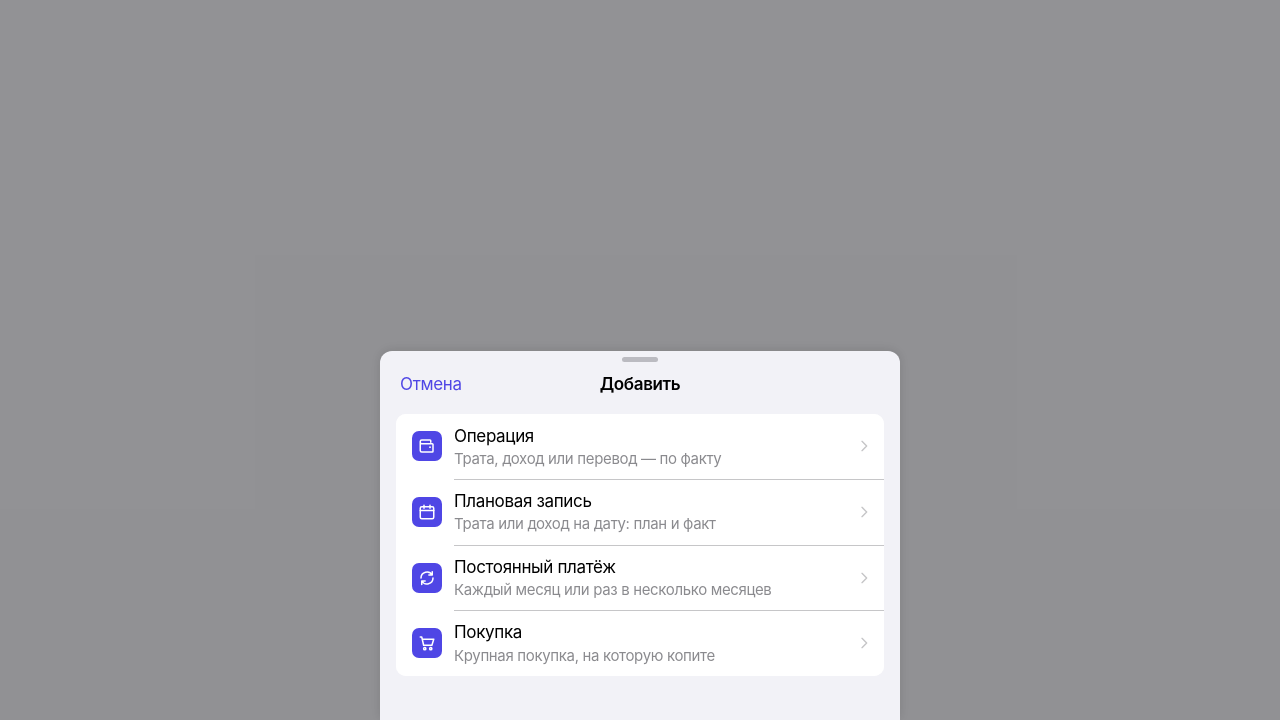
Test: «+» menu › «Плановая запись» opens a new journal form
The image size is (1280, 720).
Click the button "Плановая запись Трата или доход на дату: план и факт" at (640, 512), box x1=396 y1=479 x2=884 y2=545
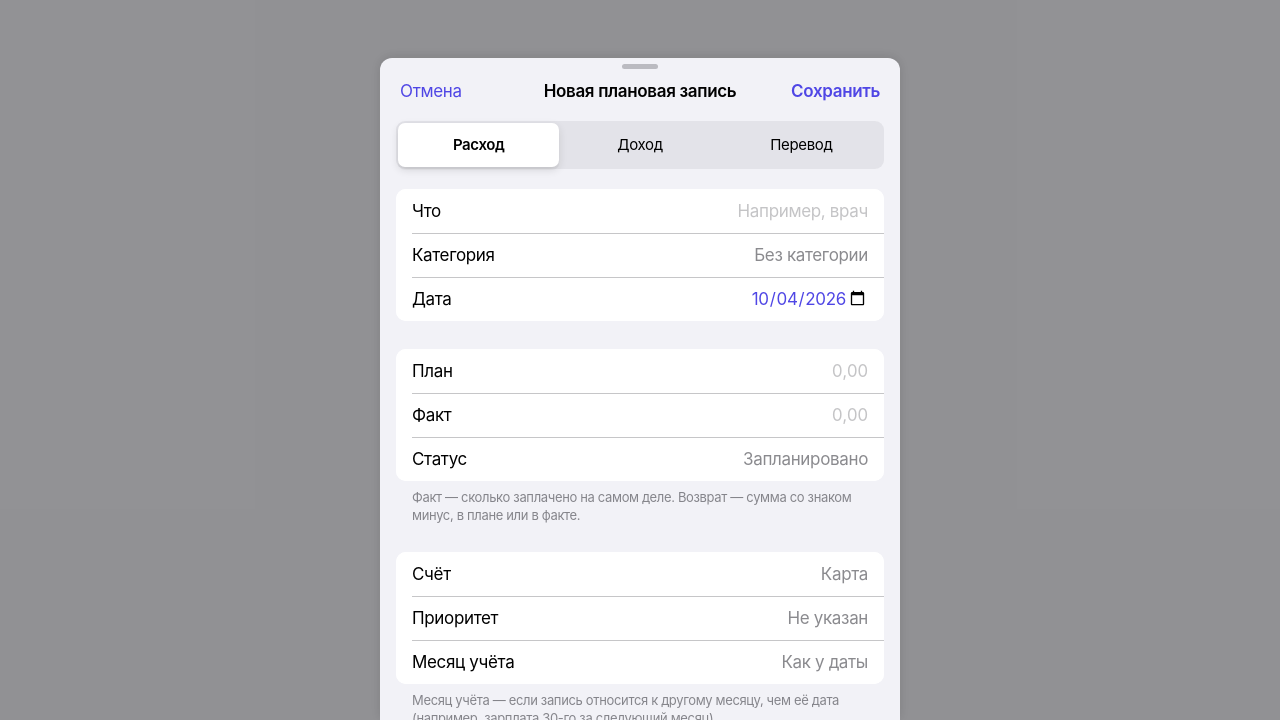
expect the dialog "Новая плановая запись" is shown: met, box x1=380 y1=58 x2=900 y2=719
